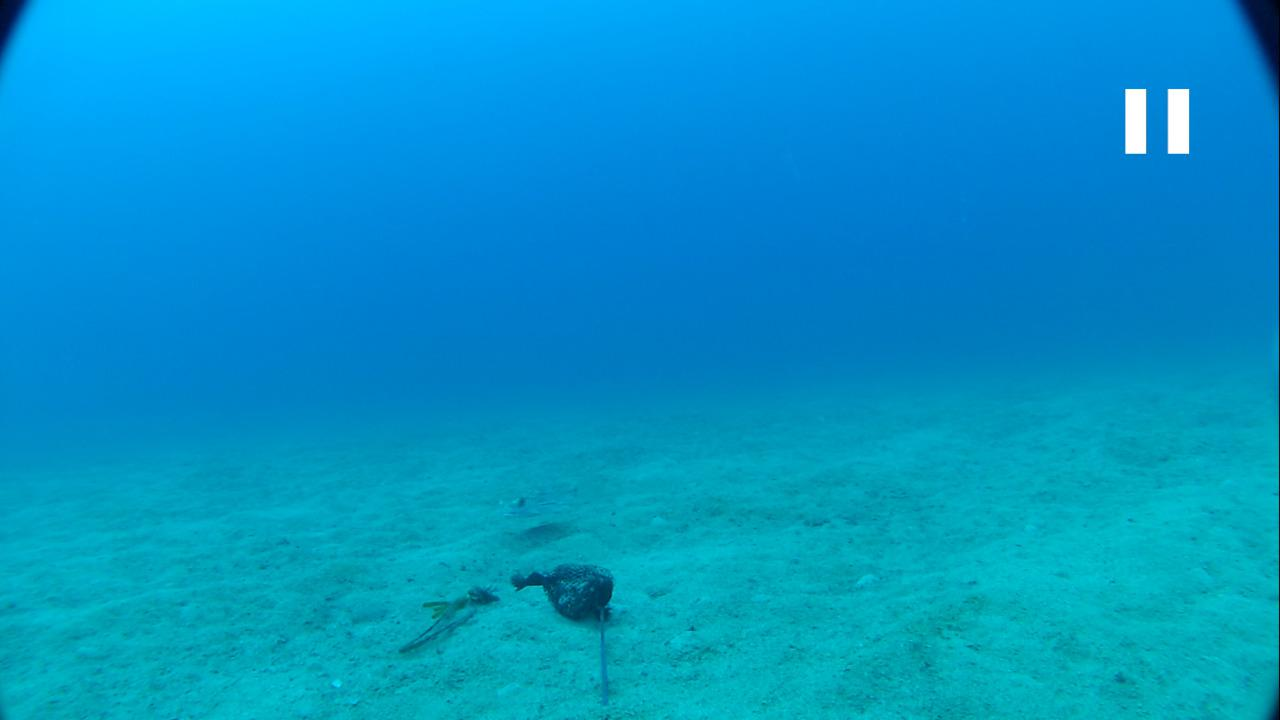dactylopterus: (492, 480, 589, 522)
